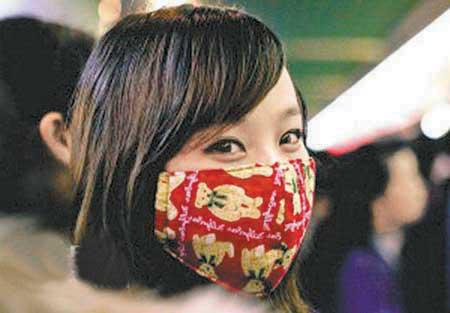OK: (158, 109, 314, 290)
